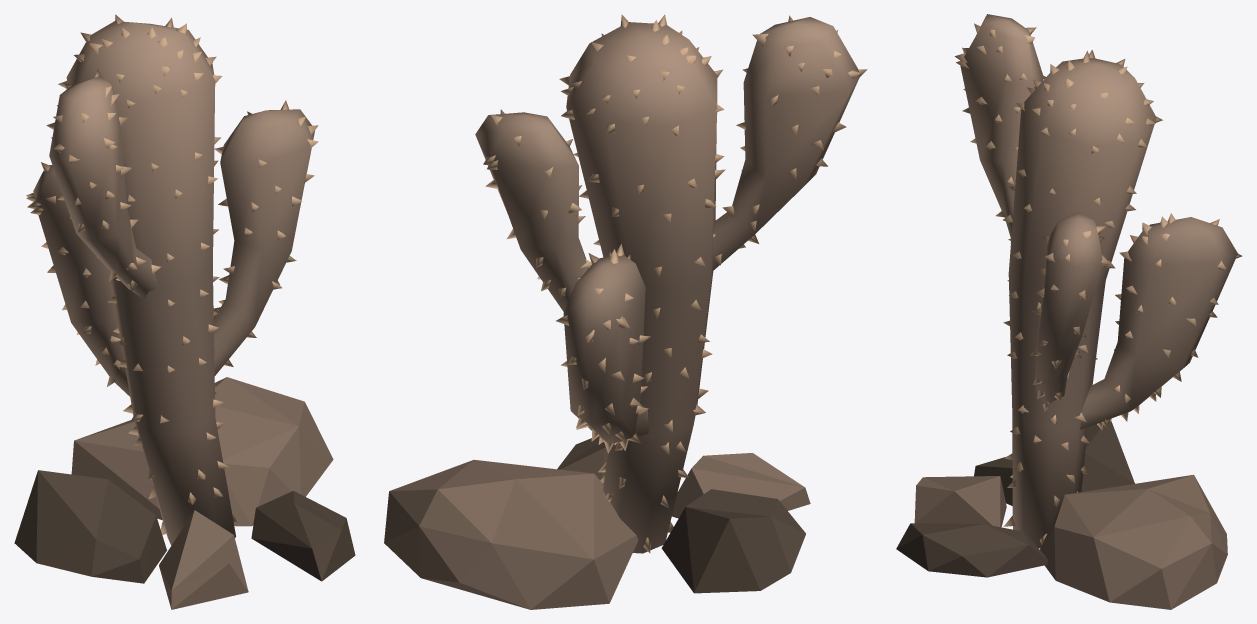
File: cactus_6.glb
The picture shows the model from 3 angles, left to right: view 1: azimuth 30°, elevation 25°; view 2: azimuth 150°, elevation 25°; view 3: azimuth 270°, elevation 25°; orthographic projection. The views are drawn at different scales.
Parts seen in each view (by area): view 1: Cactus 6; view 2: Cactus 6; view 3: Cactus 6.
Boxes of the visible parts, <box> form: Cactus 6: <box>14,14,355,609</box>; Cactus 6: <box>384,14,867,609</box>; Cactus 6: <box>896,14,1242,609</box>.
Bounding box in the file's own units: 1.9 × 2.67 × 1.79.
Materials: 1 (1 with a texture image).
